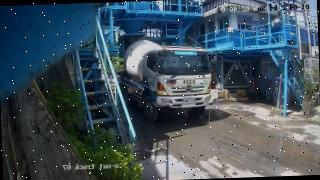cement_mixer_truck: (117, 39, 216, 121)
